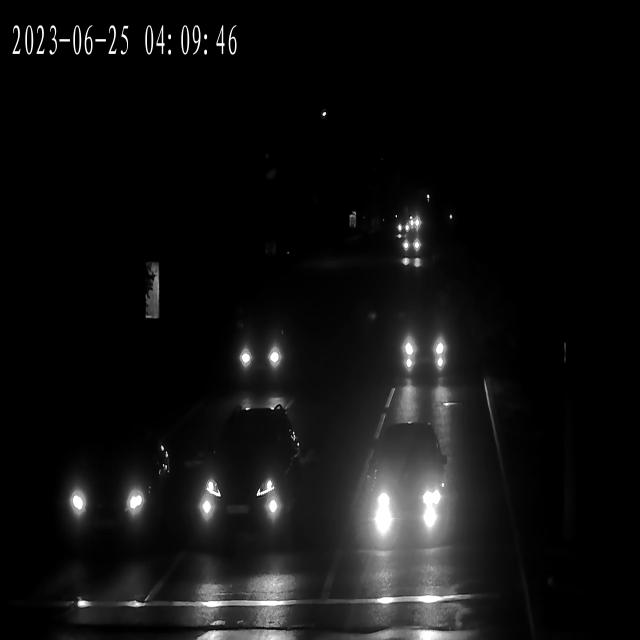Car: (186, 415, 306, 544), (56, 430, 175, 555), (368, 428, 446, 568), (392, 308, 454, 376), (228, 314, 291, 372), (403, 232, 426, 252), (394, 217, 411, 231)
